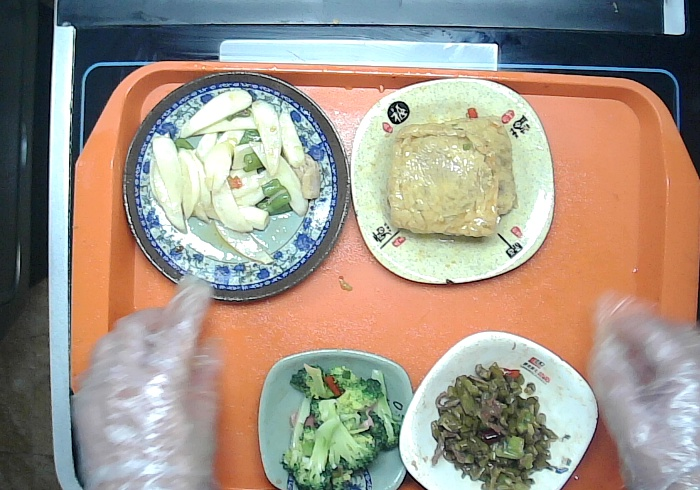NLDX-Bai_Se_Xiao_Fang_Die: (395, 327, 596, 490)
NLDX-Fu_Zi_Fang_Die: (347, 78, 556, 286)
NLDX-Qing_Hua_Xiao_Fang_Die: (256, 347, 411, 490)
NLDX-Qing_Hua_Yuan_Die: (120, 73, 349, 303)
